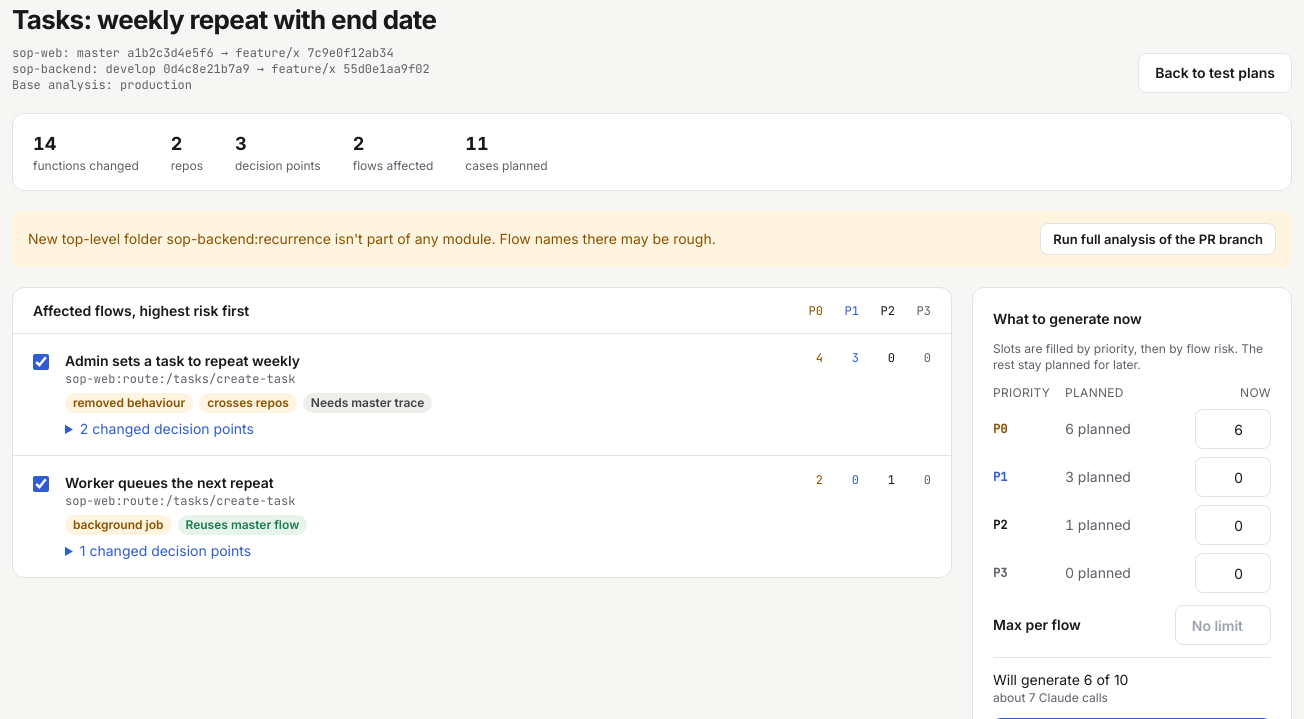
Test: summary_and_flows
Expected: the heading "Tasks: weekly repeat with end date" is shown, 12,0 -> 436,39
Expected: the text "functions changed" is shown, 33,158 -> 139,174
Click the heading "2 changed decision points" at (167, 428), box 80,420 -> 254,437
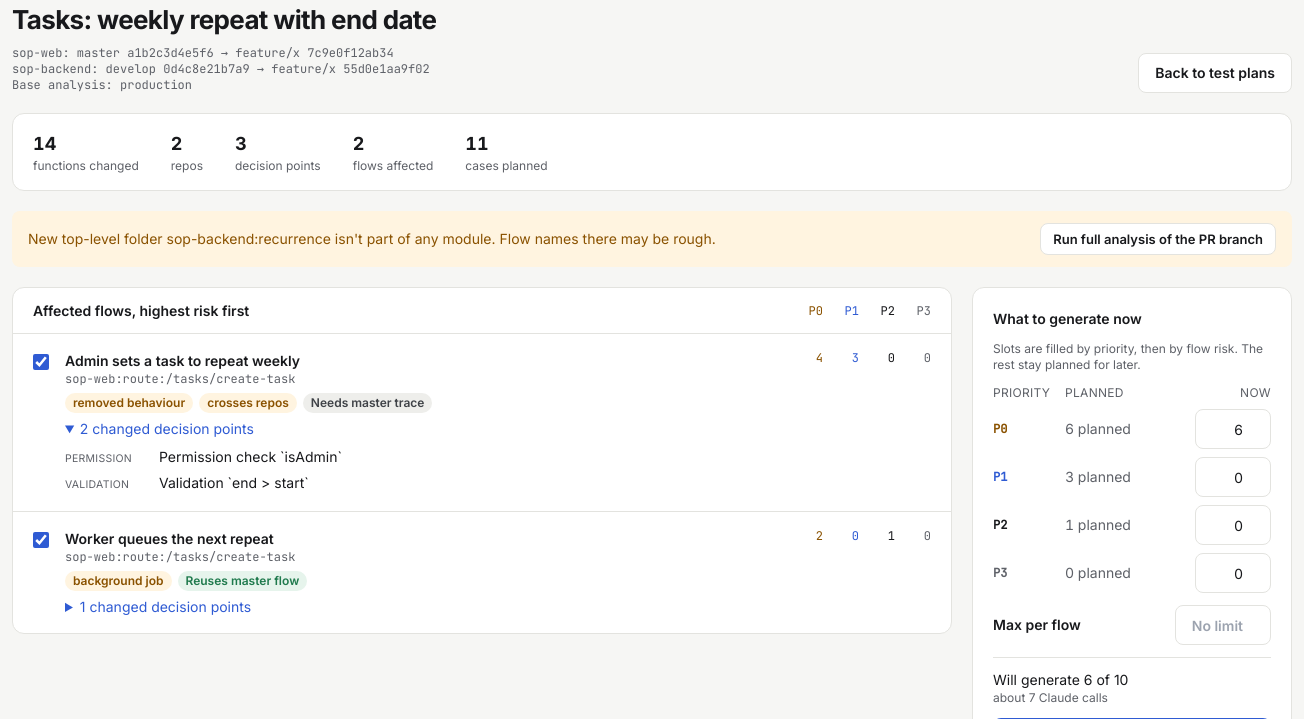
Expected: the text "Permission check `isAdmin`" is shown, 159,448 -> 342,465
